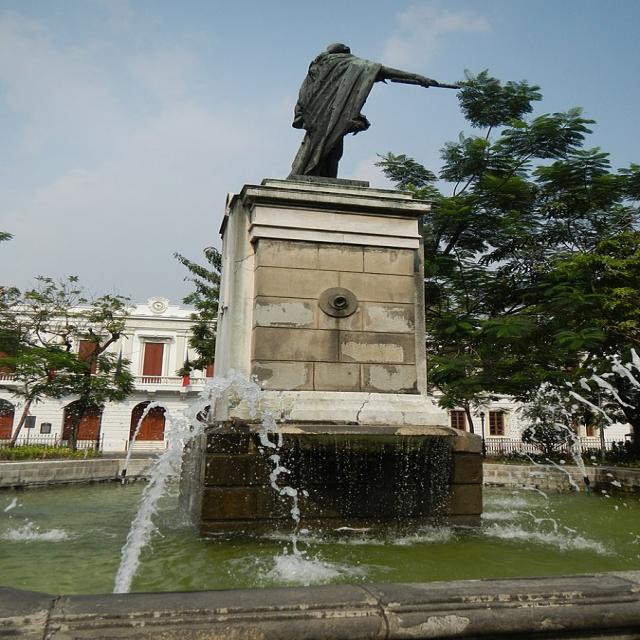King Charles IV Monument: (173, 30, 495, 549)
